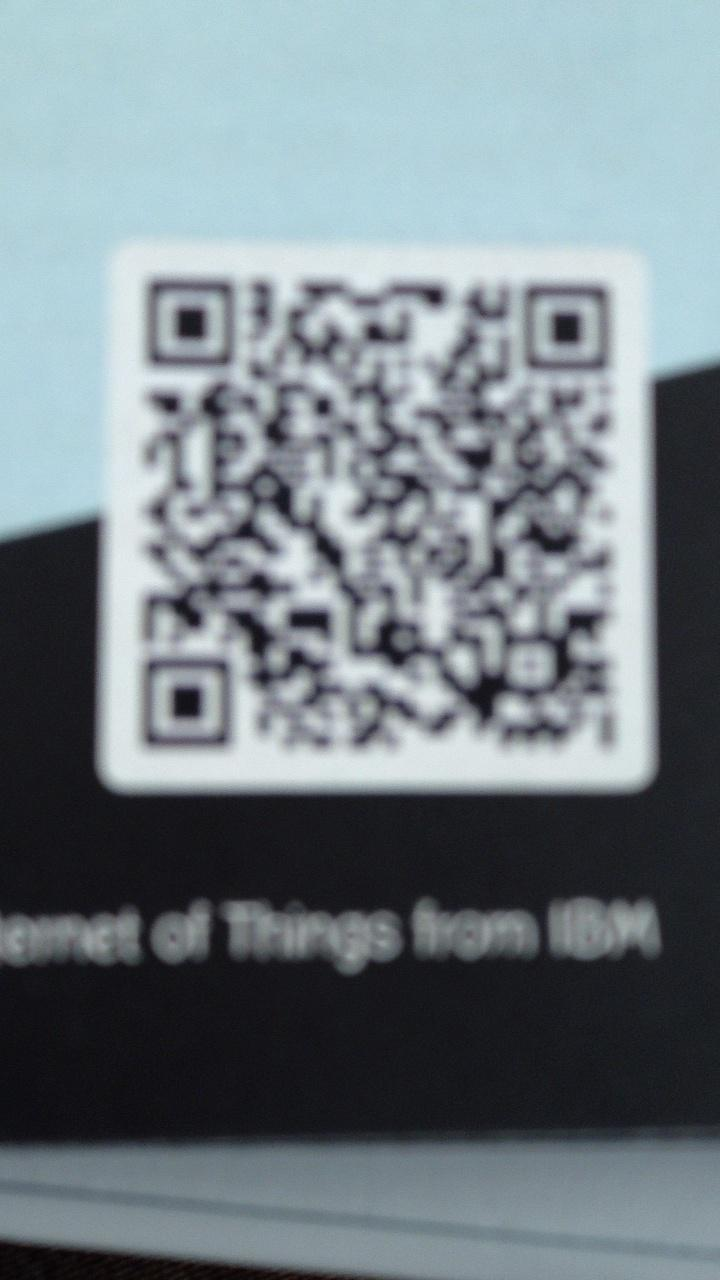Finder pattern: (132, 644, 240, 754), (137, 267, 242, 376), (513, 275, 618, 379)
